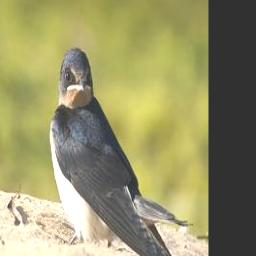Swallow: (49, 46, 194, 256)
